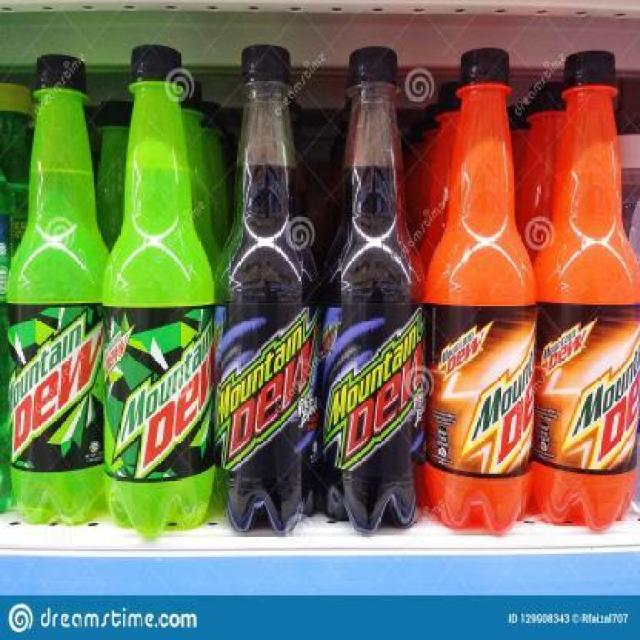Drinks: (424, 49, 538, 537), (102, 45, 213, 541), (212, 46, 322, 537), (322, 47, 424, 535), (538, 50, 638, 532), (5, 52, 104, 528)
